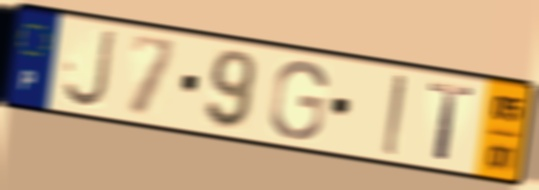7: (126, 31, 177, 119)
9: (201, 46, 259, 134)
G: (266, 58, 330, 143)
I: (380, 70, 408, 159)
J: (60, 26, 118, 111)
T: (426, 80, 478, 165)
